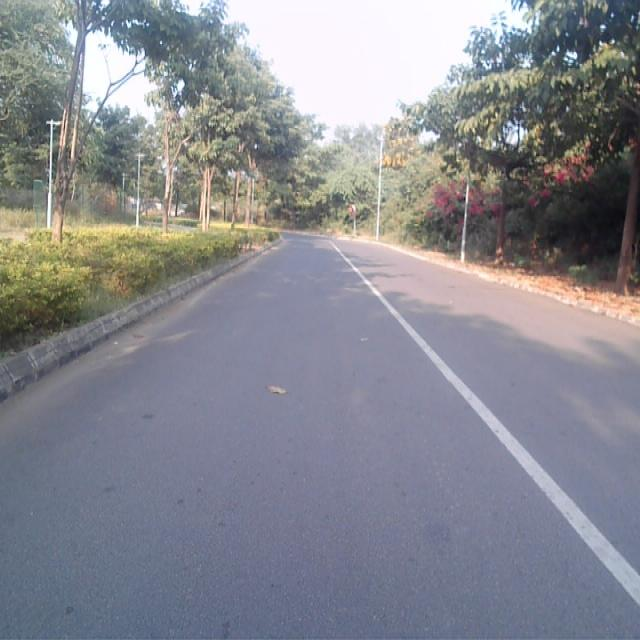lane: (0, 238, 640, 640)
